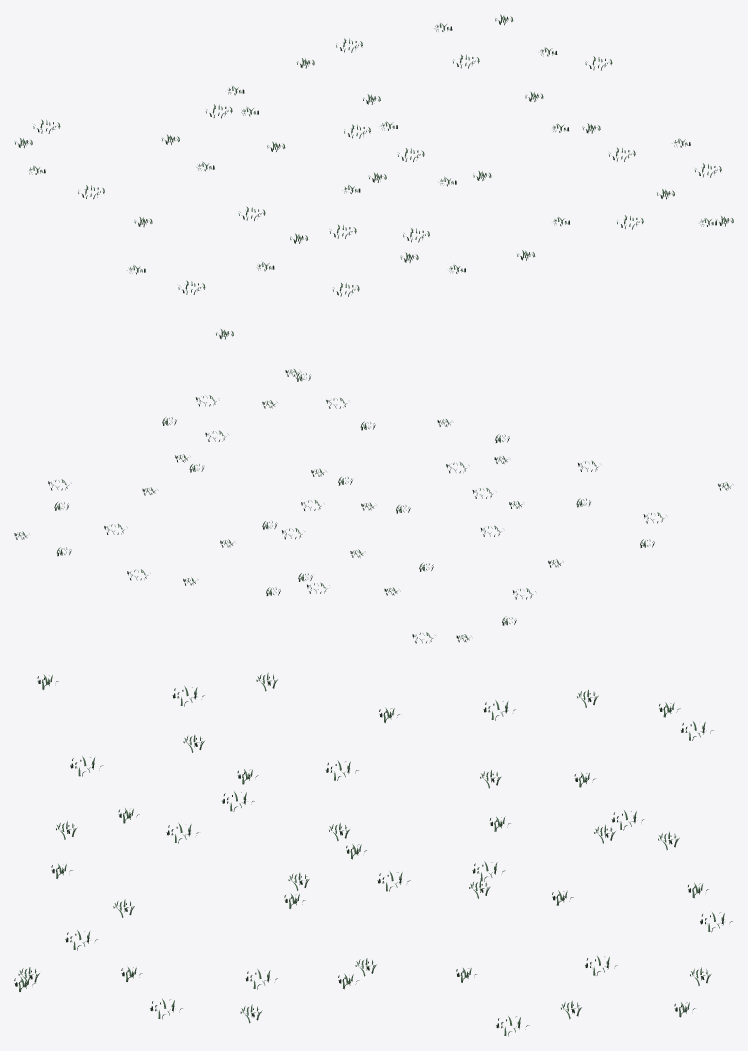
File: weeds not this use prefab.fbx
3 renders of one model, top to bottom at view 1: azimuth 30°, elevation 25°; view 2: azimuth 150°, elevation 25°; view 3: azimuth 270°, elevation 25°, orthographic. The views are drawn at different scales.
Visible parts, largest first — view 1: Random; view 2: Random; view 3: Random.
Part boxes in pixels (x1=…): Random: x1=15, y1=14, x2=733, y2=339; Random: x1=14, y1=369, x2=733, y2=643; Random: x1=14, y1=672, x2=732, y2=1036.
Bounding box in the file's own units: 3382 × 37.08 × 2874.
